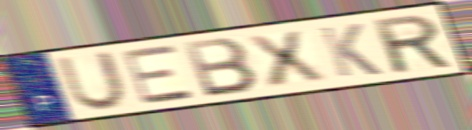B: (180, 35, 261, 99)
E: (119, 42, 200, 107)
K: (315, 21, 385, 79)
R: (369, 12, 456, 76)
U: (55, 49, 130, 112)
X: (241, 28, 330, 90)
